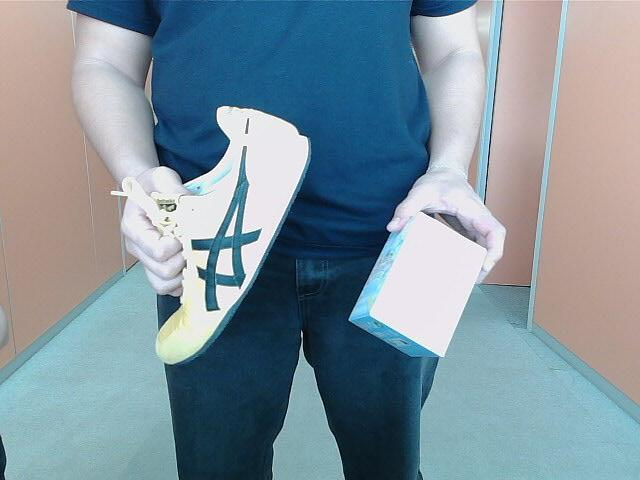Blind_box: (346, 214, 492, 364)
Shoes: (152, 106, 311, 366)
